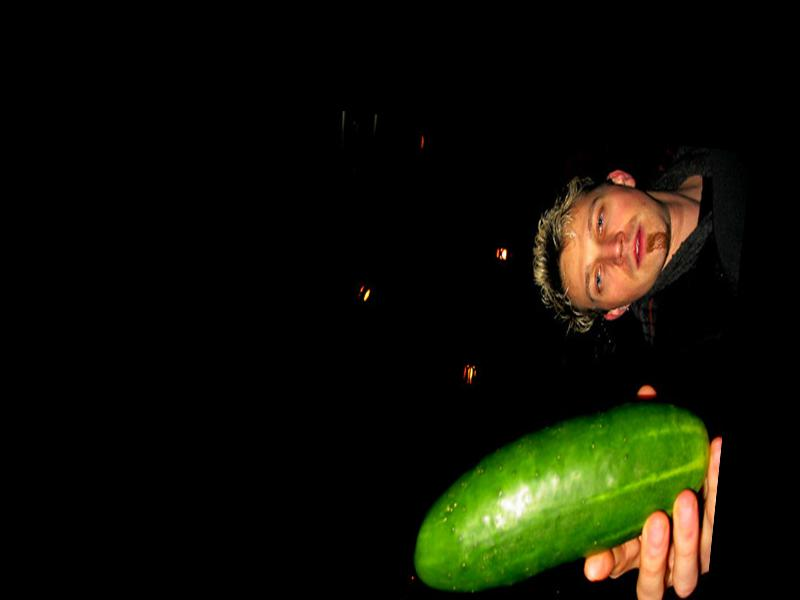Cucumber: (412, 383, 711, 600)
